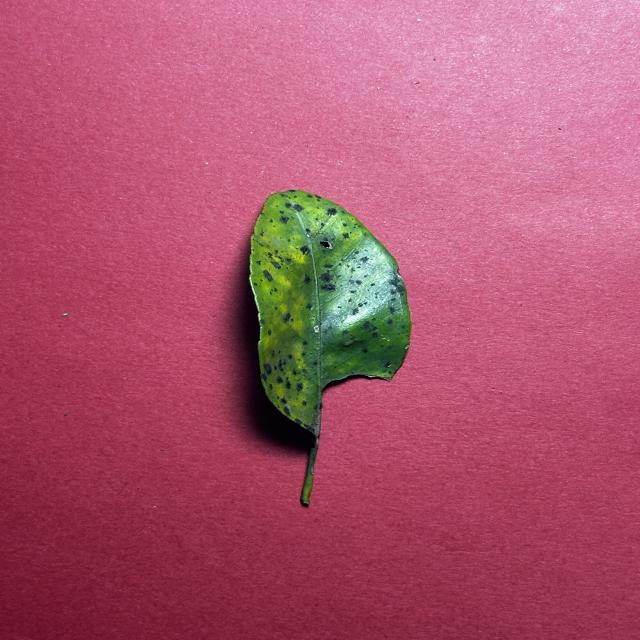sooty_mold: (250, 190, 411, 505)
